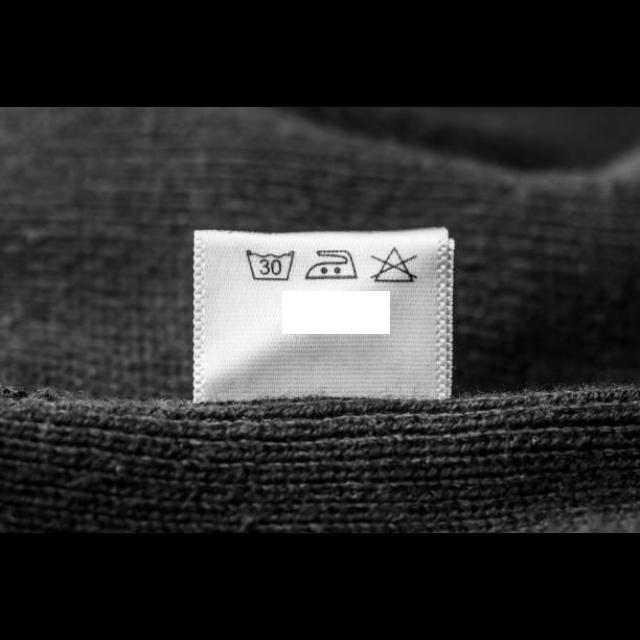30C: (242, 246, 298, 284)
DN_bleach: (369, 245, 419, 285)
iron_medium: (304, 247, 361, 283)
